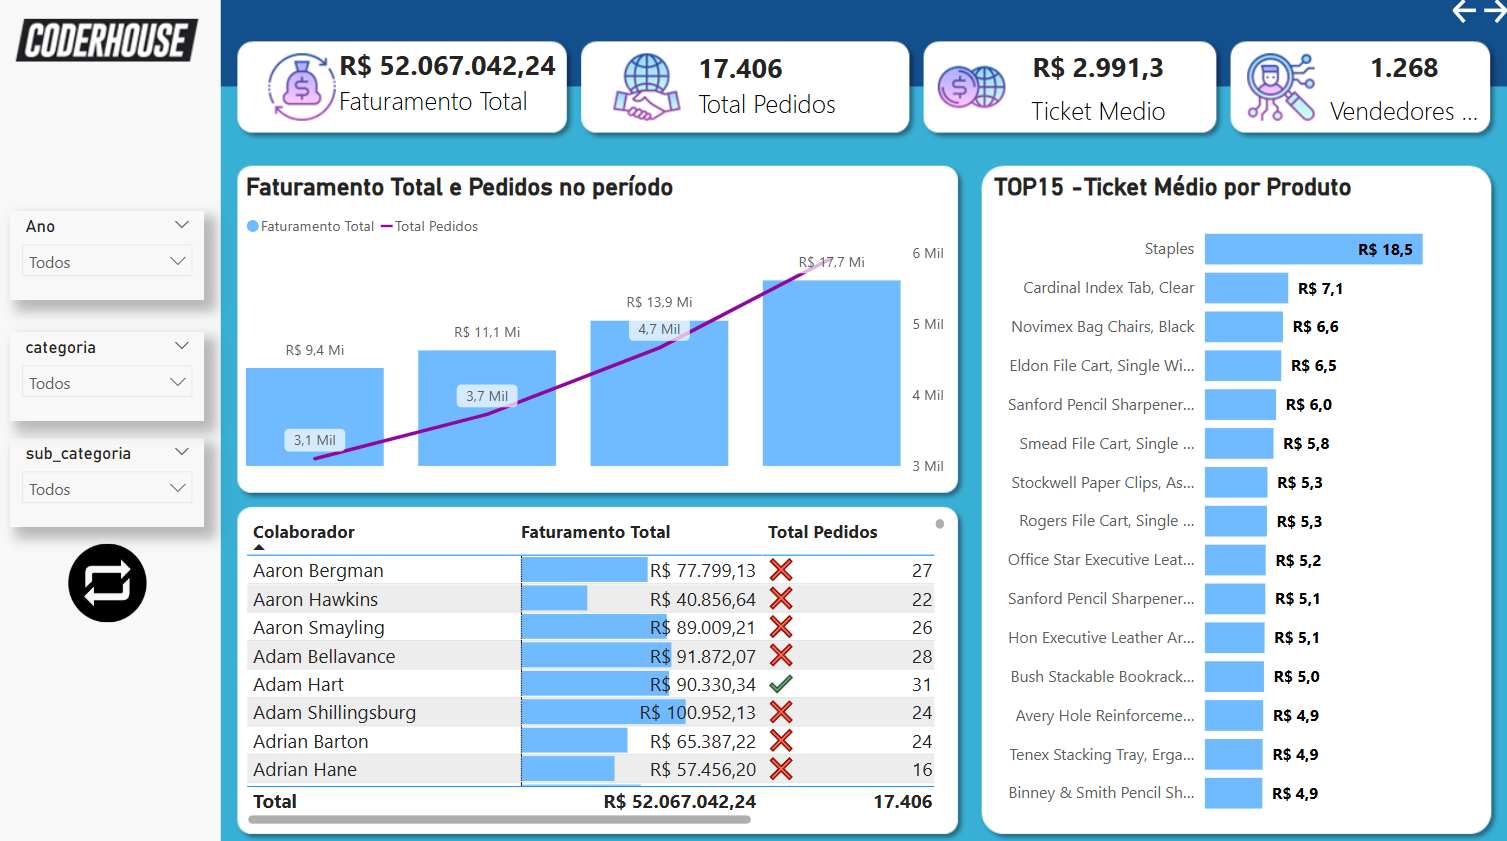

Layout of this report page (visuals, bound fields, positions):
{"tool":"powerbi","page":{"name":"Visão Geral","canvas":[1280,720],"ordinal":1},"visuals":[{"type":"multiRowCard","fields":{"Values":["Medidas.Total Pedidos"]},"box":[585.2,42.6,132.1,69.2],"z":0},{"type":"multiRowCard","fields":{"Values":["Medidas.Ticket Medio"]},"box":[1294.3,68.6,202.9,91.4],"z":1000},{"type":"multiRowCard","fields":{"Values":["Medidas.Vendedores Ativos"]},"box":[1682.9,68.6,178.6,91.4],"z":2000},{"type":"multiRowCard","fields":{"Values":["Medidas.Faturamento Total"]},"box":[282.9,39.9,195.1,74.5],"z":3000},{"type":"lineClusteredColumnComboChart","title":"Faturamento Total e Pedidos no período","fields":{"Y":["Medidas.Faturamento Total"],"Y2":["Medidas.Total Pedidos"],"Category":["dCalendariOo.Date.Variation.Hierarquia de datas.Ano","dCalendariOo.Date.Variation.Hierarquia de datas.Mês","dCalendariOo.Date.Variation.Hierarquia de datas.Dia"]},"box":[204.4,150,600,262.2],"z":4000},{"type":"clusteredBarChart","title":"TOP15 -Ticket Médio por Produto","fields":{"Y":["Medidas.Ticket Medio"],"Category":["DProdutos.nome_produto"]},"box":[835.6,150,418.9,555.6],"z":5000},{"type":"tableEx","fields":{"Values":["dVendedores.nome_vendedor","Medidas.Faturamento Total","Medidas.Total Pedidos","Medidas.Ticket Medio"]},"box":[204.4,436.7,600,268.9],"z":6000},{"type":"actionButton","box":[1840,0,41.7,40],"z":7000},{"type":"actionButton","box":[1880,0,40,40],"z":8000},{"type":"slicer","fields":{"Values":["dCalendariOo.Ano"]},"box":[9.9,183,164.1,74.6],"z":9000},{"type":"slicer","fields":{"Values":["DProdutos.categoria"]},"box":[9.9,285.4,164.1,74.6],"z":10000},{"type":"slicer","fields":{"Values":["DProdutos.sub_categoria"]},"box":[9.9,374.9,164.1,74.6],"z":11000},{"type":"image","box":[52.2,458.9,80,75.6],"z":12000},{"type":"card","fields":{"Values":["Medidas.Ticket Medio"]},"box":[855.6,42.2,145.6,68.9],"z":13000},{"type":"card","fields":{"Values":["Medidas.Vendedores Ativos"]},"box":[1117.8,42.2,136.7,68.9],"z":14000},{"type":"actionButton","box":[1223.3,0,31.1,28.9],"z":15000},{"type":"actionButton","box":[1248.9,0,31.1,28.9],"z":16000}]}

Visuals, with their boxes in screenshot pixels (x1, y1, x2, y2), scaled from the page's 1280x720 canvas onto the 1507x841 screenshot:
multiRowCard - Medidas.Total Pedidos: bbox=[689, 50, 845, 131]
multiRowCard - Medidas.Faturamento Total: bbox=[333, 47, 563, 134]
"Faturamento Total e Pedidos no período" lineClusteredColumnComboChart: bbox=[241, 175, 947, 481]
"TOP15 -Ticket Médio por Produto" clusteredBarChart: bbox=[984, 175, 1477, 824]
tableEx - dVendedores.nome_vendedor x Medidas.Faturamento Total: bbox=[241, 510, 947, 824]
slicer - dCalendariOo.Ano: bbox=[12, 214, 205, 301]
slicer - DProdutos.categoria: bbox=[12, 333, 205, 420]
slicer - DProdutos.sub_categoria: bbox=[12, 438, 205, 525]
image: bbox=[61, 536, 156, 624]
card - Medidas.Ticket Medio: bbox=[1007, 49, 1179, 130]
card - Medidas.Vendedores Ativos: bbox=[1316, 49, 1477, 130]
actionButton: bbox=[1440, 0, 1477, 34]
actionButton: bbox=[1470, 0, 1506, 34]
